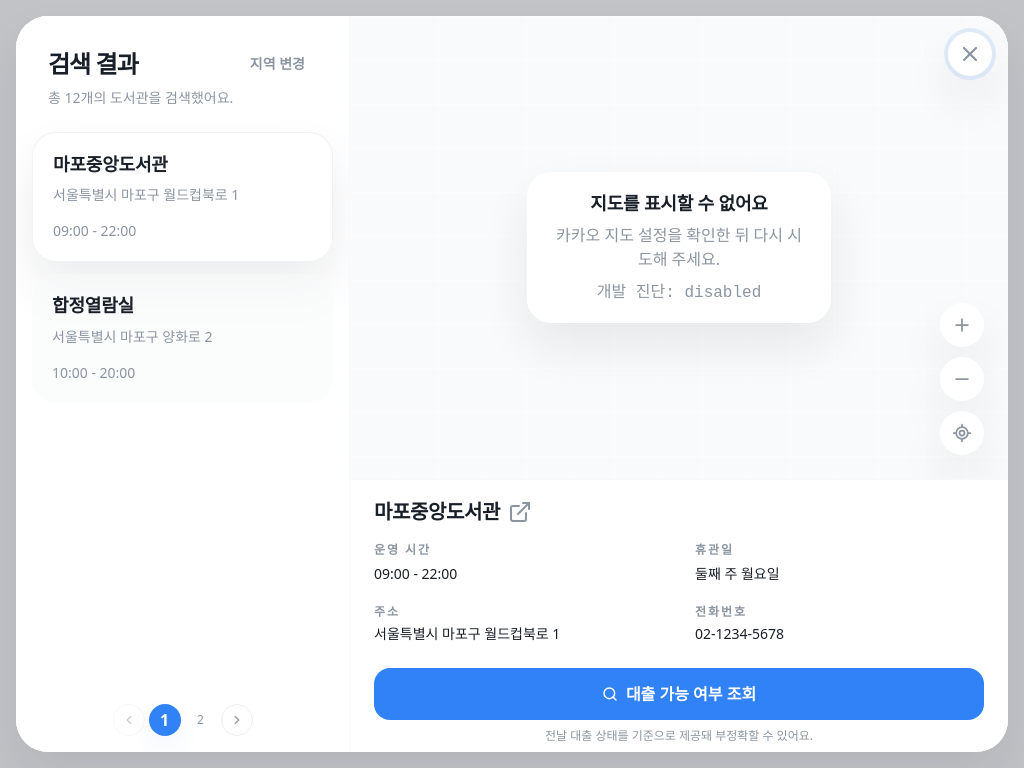
Test case: LibrarySearchResultDialog › 대출 여부 확인에 실패하면 다시 시도할 수 있고 안내를 볼 수 있다
The width and height of the screenshot is (1024, 768).
Click the button "대출 가능 여부 조회" at (679, 694), box x1=374 y1=668 x2=984 y2=720
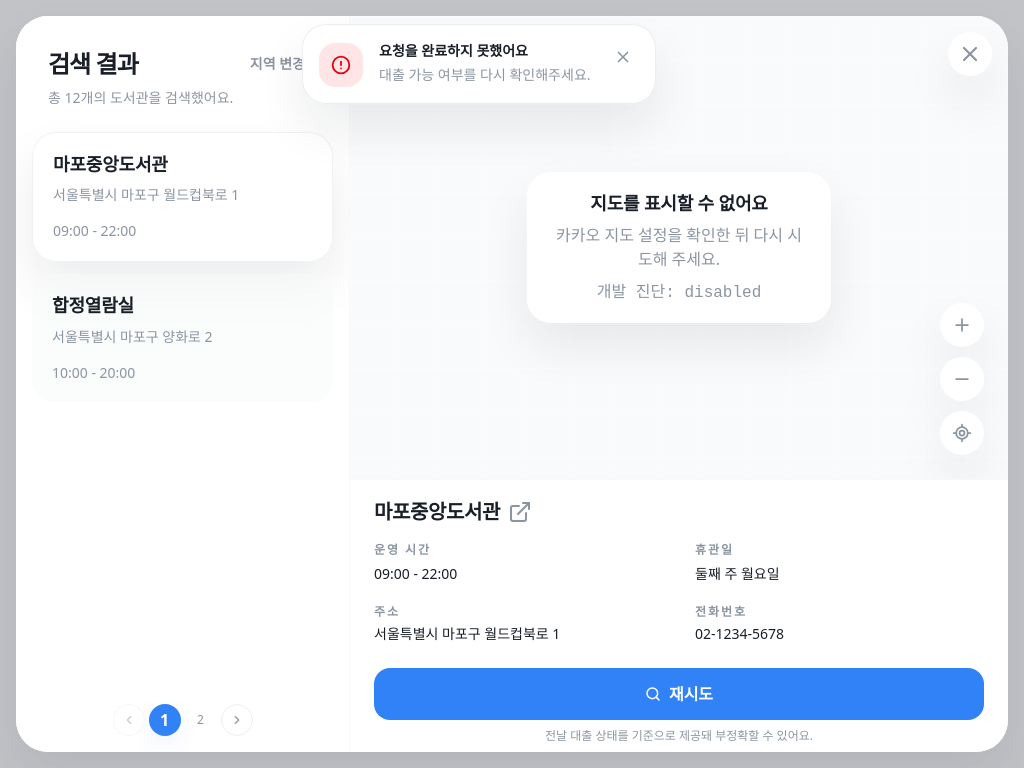
Expected: the text "전날 대출 상태를 기준으로 제공돼 부정확할 수 있어요." is shown, x1=545 y1=727 x2=813 y2=744
Now the text "요청을 완료하지 못했어요" is shown, box x1=379 y1=41 x2=528 y2=60
Now the text "대출 가능 여부를 다시 확인해주세요." is shown, box x1=379 y1=65 x2=590 y2=85
